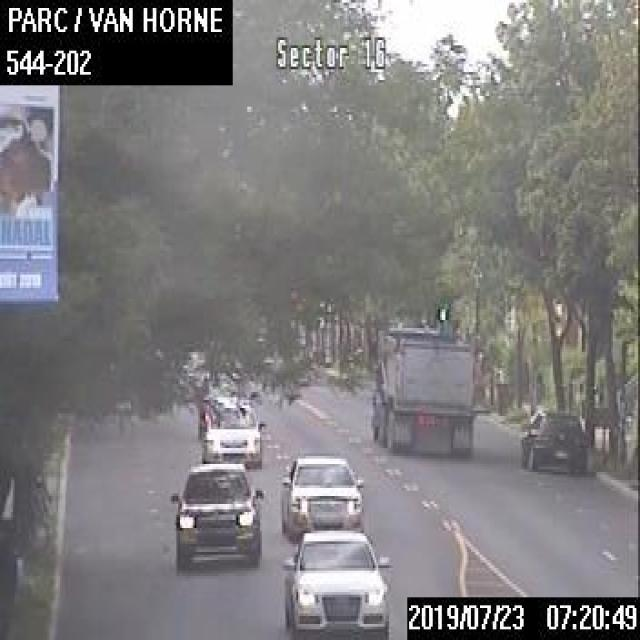vehicle: (370, 320, 472, 453), (281, 526, 391, 638), (168, 458, 264, 568), (280, 453, 365, 536), (520, 405, 587, 472), (200, 395, 264, 465)
